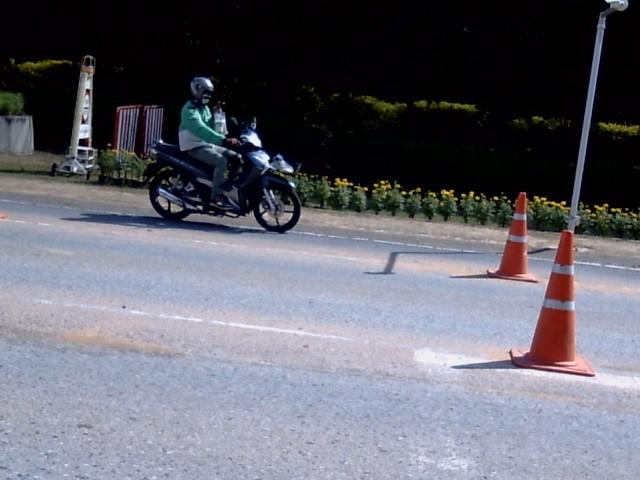helmet: (190, 75, 213, 100)
motor: (143, 117, 301, 232)
person: (179, 77, 240, 209)
